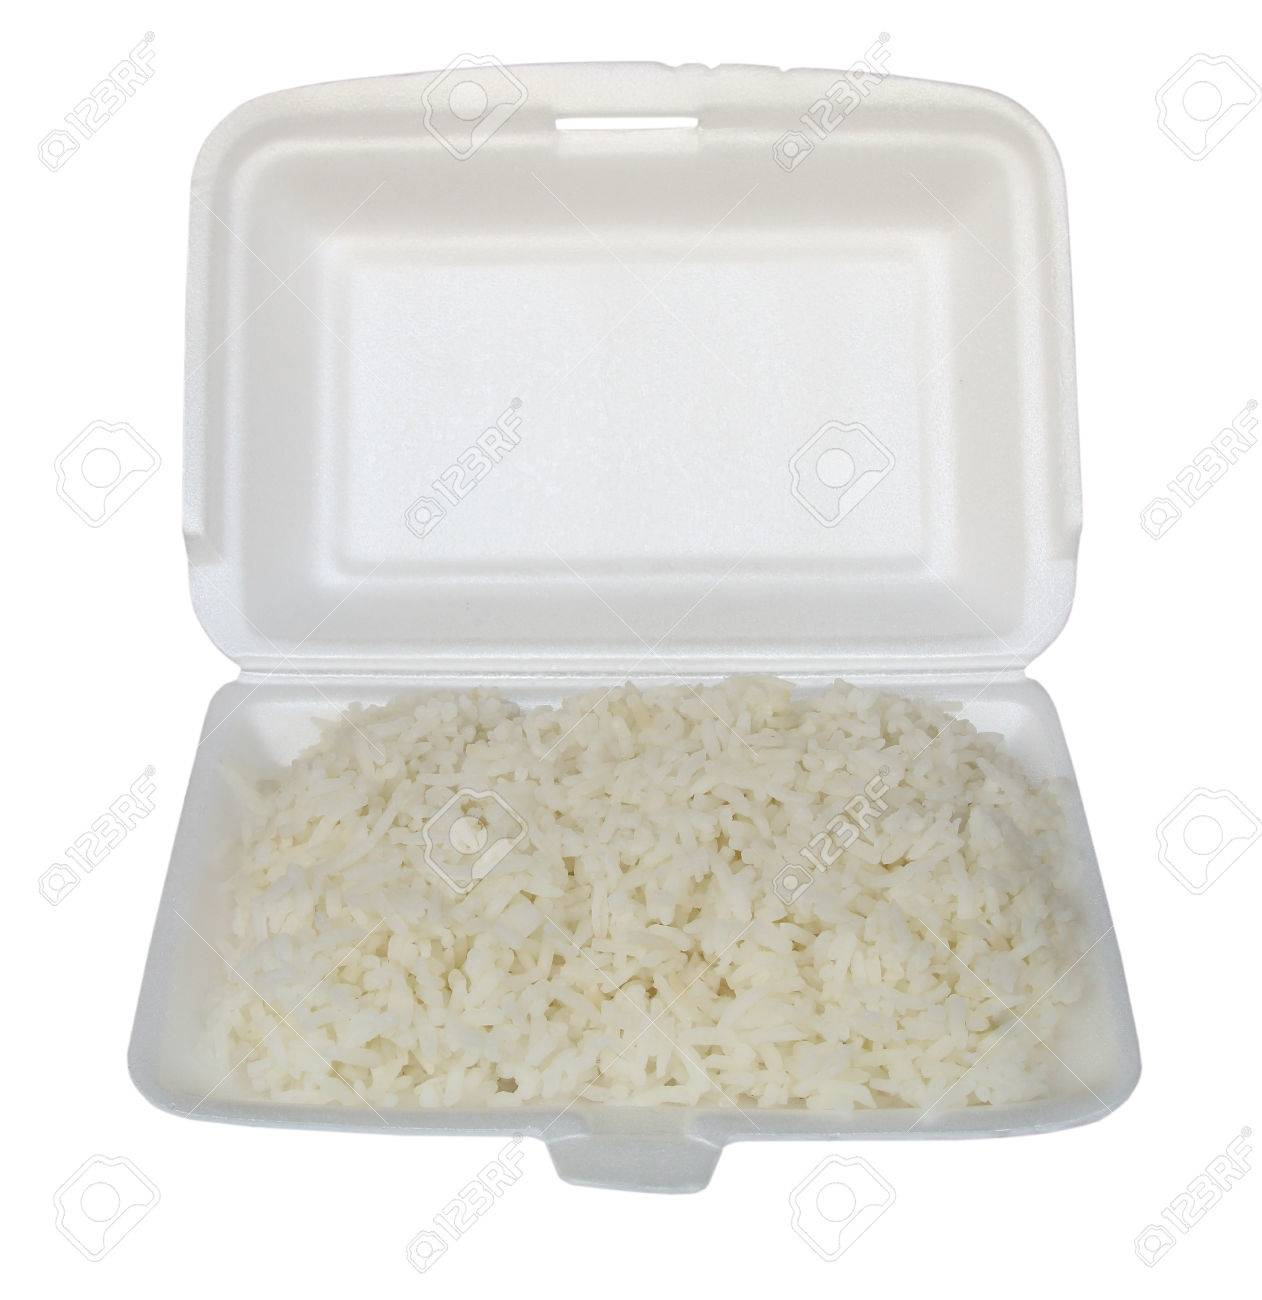Foam Box: (111, 50, 1164, 1209)
